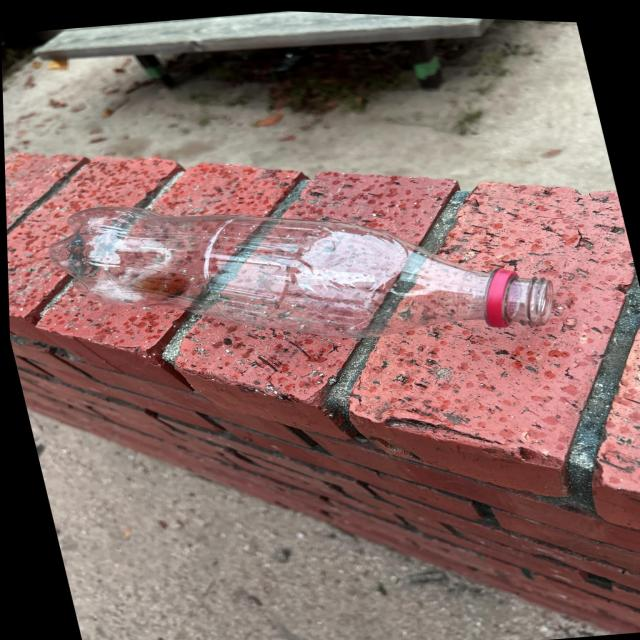empty: (50, 205, 553, 338)
